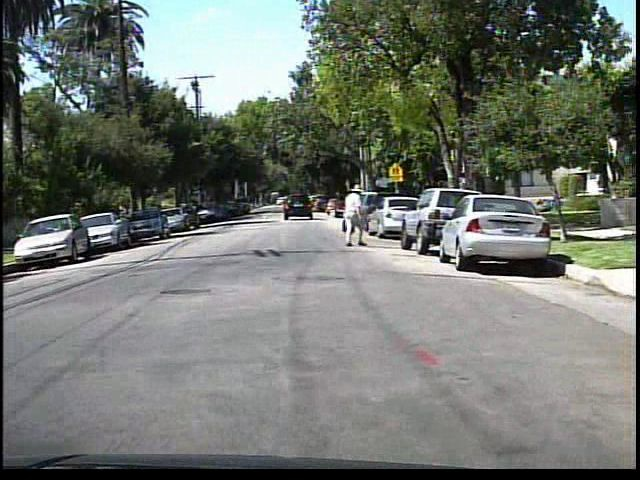person: (338, 184, 372, 249)
